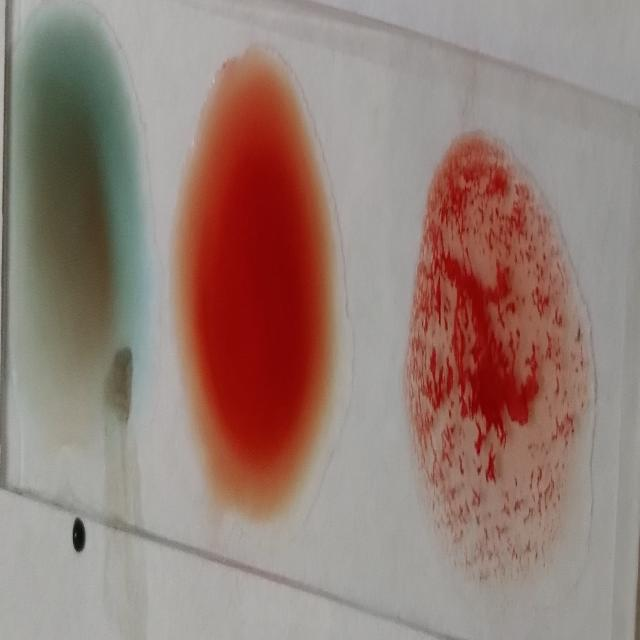D: (404, 130, 596, 598)
